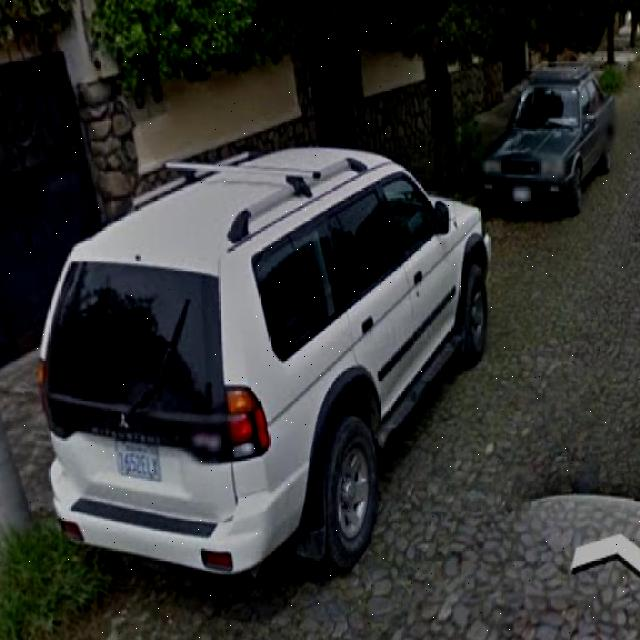car: (39, 178, 498, 600), (477, 63, 616, 214)
